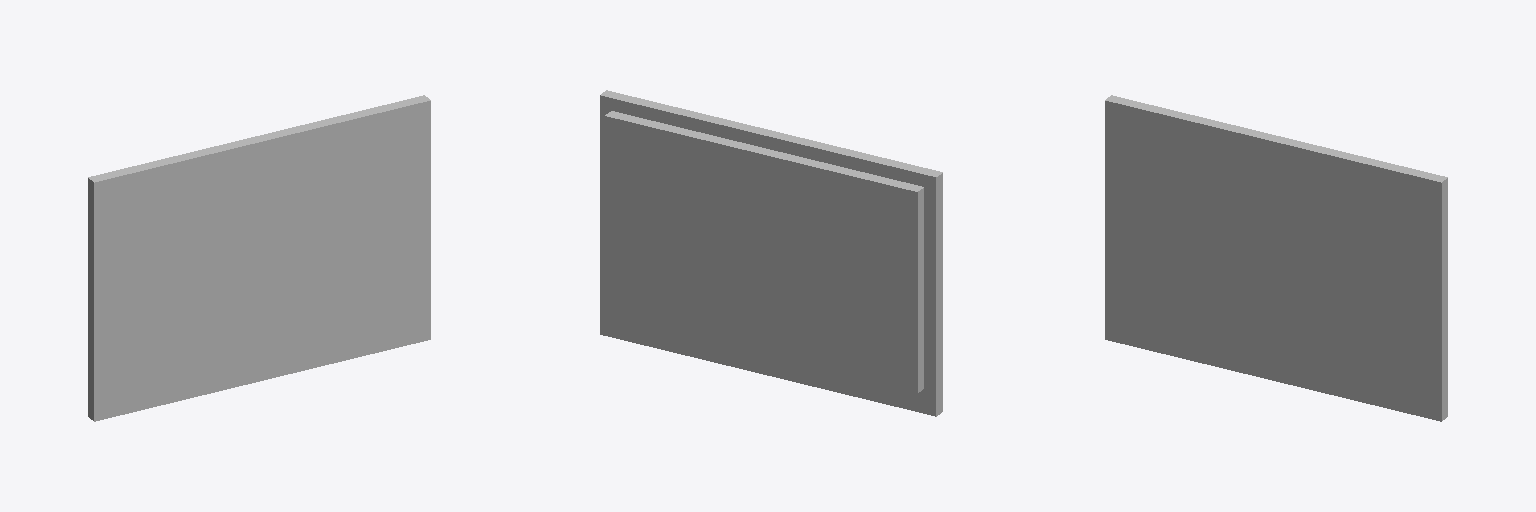
File: tele.obj
3 renders of one model, left to right at view 1: azimuth 30°, elevation 25°; view 2: azimuth 150°, elevation 25°; view 3: azimuth 330°, elevation 25°, orthographic.
Parts seen in each view (by area): view 1: tele; view 2: tele; view 3: tele.
Part boxes in pixels (x1,y1,x2,y2): tele: (88, 95, 430, 421); tele: (600, 90, 942, 416); tele: (1105, 95, 1447, 421).
Bounding box in the file's own units: 28 × 19 × 2.